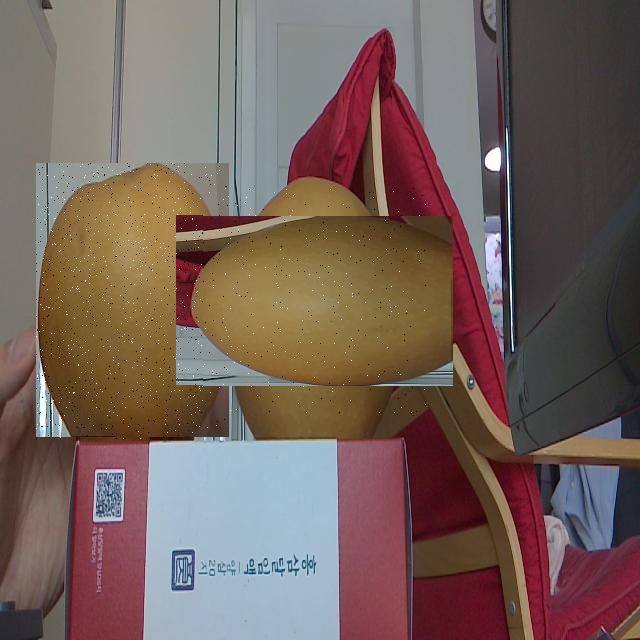pear: (36, 163, 229, 440), (203, 188, 426, 413)
